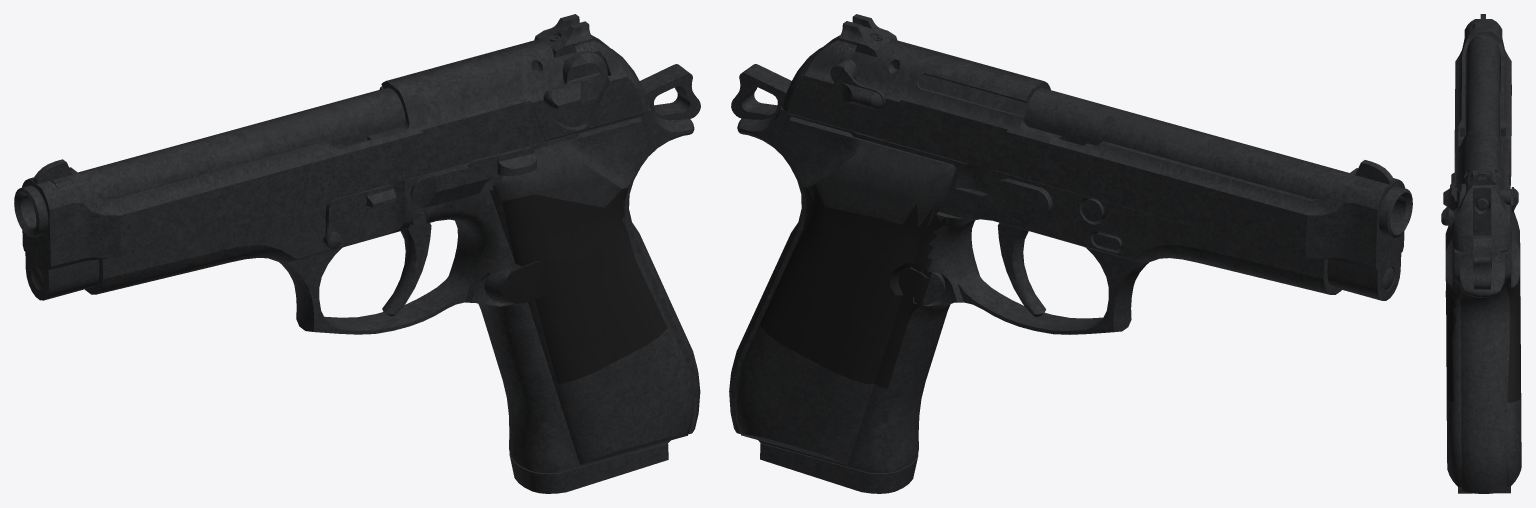
3 views of the same model, side by side, from view 1: azimuth 30°, elevation 25°; view 2: azimuth 150°, elevation 25°; view 3: azimuth 270°, elevation 25° (orthographic). The views are drawn at different scales.
Parts seen in each view (by area): view 1: m9; view 2: m9; view 3: m9.
Part boxes in pixels (bbox=[...]): m9: bbox=[14, 14, 700, 493]; m9: bbox=[729, 14, 1412, 493]; m9: bbox=[1441, 14, 1521, 493].
Bounding box in the file's own units: 0.217 × 0.1406 × 0.0338.
2 materials, 2 textured.
